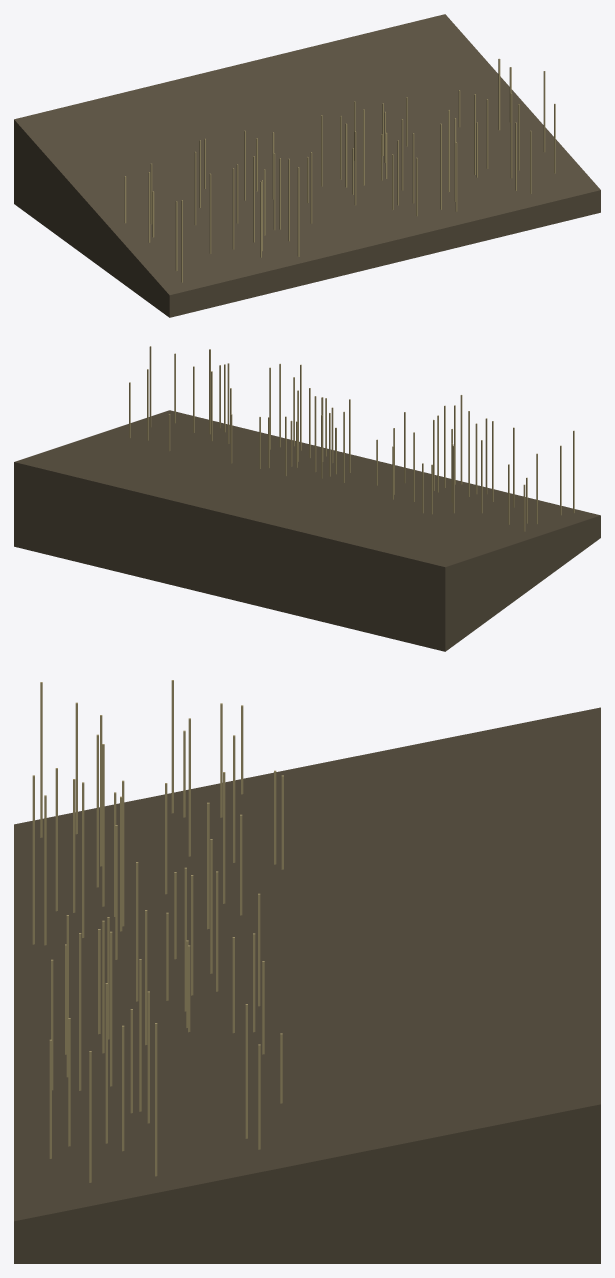
File: f03-bank-reed-margin.glb
3 views of the same model, one above another, from view 1: azimuth 30°, elevation 25°; view 2: azimuth 150°, elevation 25°; view 3: azimuth 270°, elevation 25° (orthographic). The views are drawn at different scales.
Visible parts, largest first — view 1: part0, part1; view 2: part0, part1; view 3: part0, part1.
Boxes of the visible parts, x1=… form: part0: x1=14, y1=14, x2=600, y2=317; part1: x1=124, y1=58, x2=555, y2=282; part0: x1=14, y1=410, x2=600, y2=651; part1: x1=129, y1=346, x2=574, y2=531; part0: x1=14, y1=707, x2=600, y2=1263; part1: x1=32, y1=680, x2=283, y2=1182.
Size of the model in its own units: 8000 by 2099 by 5000.
